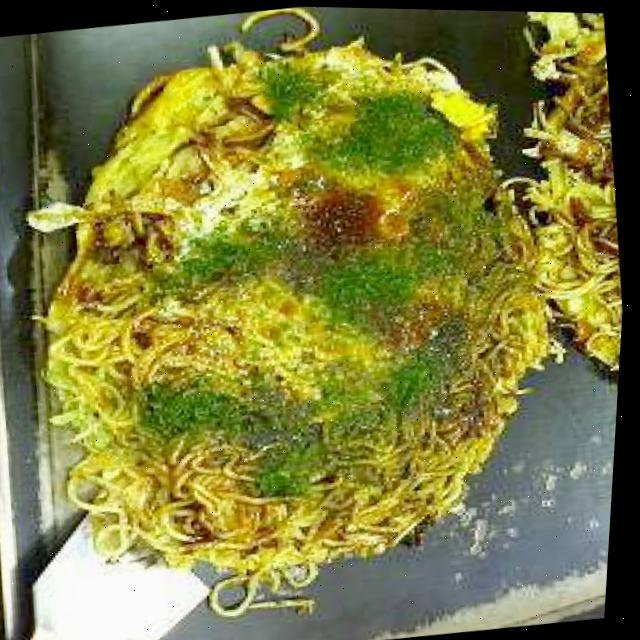蛋糕甜品: (0, 14, 603, 593)
